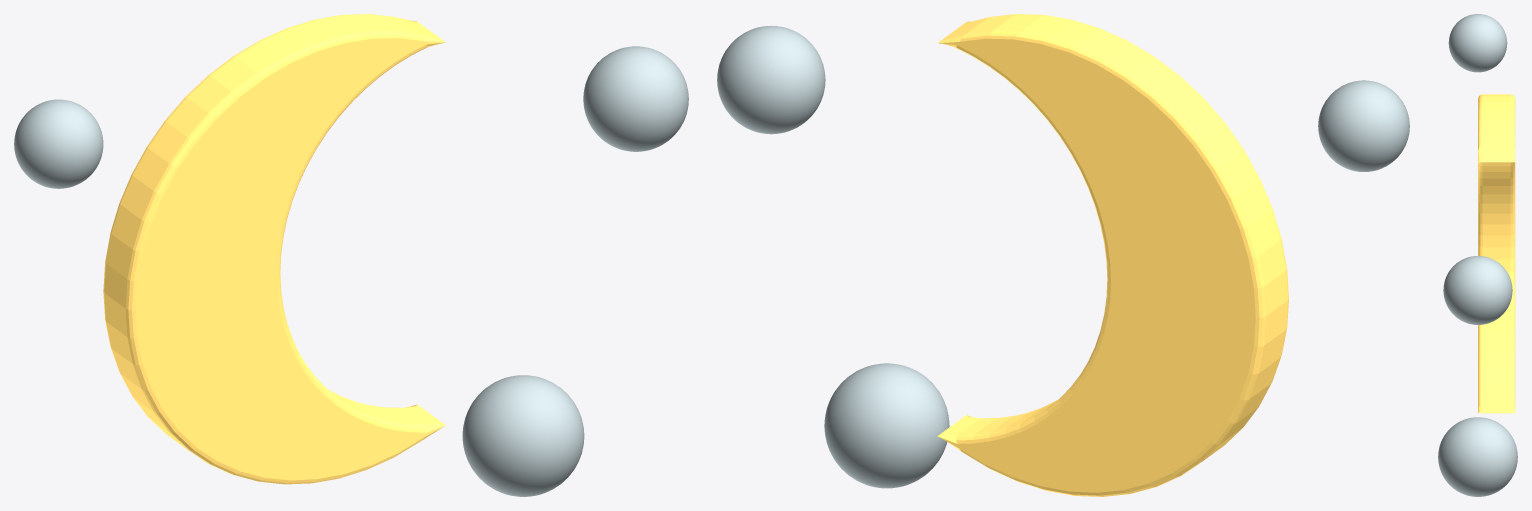
The model's file is sleep-mobile.glb.
3 renders of one model, left to right at view 1: azimuth 30°, elevation 25°; view 2: azimuth 150°, elevation 25°; view 3: azimuth 270°, elevation 25°, orthographic. The views are drawn at different scales.
Parts seen in each view (by area): view 1: dream_moon, dream_pearl2, dream_pearl1, dream_pearl0; view 2: dream_moon, dream_pearl2, dream_pearl1, dream_pearl0; view 3: dream_moon, dream_pearl2, dream_pearl1, dream_pearl0.
Boxes of the visible parts, x1=… form: dream_moon: x1=103, y1=14, x2=445, y2=484; dream_pearl2: x1=462, y1=375, x2=584, y2=496; dream_pearl1: x1=583, y1=46, x2=688, y2=151; dream_pearl0: x1=14, y1=99, x2=103, y2=188; dream_moon: x1=937, y1=14, x2=1288, y2=496; dream_pearl2: x1=824, y1=363, x2=949, y2=488; dream_pearl1: x1=717, y1=25, x2=825, y2=134; dream_pearl0: x1=1318, y1=80, x2=1409, y2=171; dream_moon: x1=1478, y1=94, x2=1515, y2=413; dream_pearl2: x1=1438, y1=417, x2=1517, y2=496; dream_pearl1: x1=1443, y1=256, x2=1512, y2=324; dream_pearl0: x1=1448, y1=14, x2=1507, y2=72.
Bounding box in the file's own units: 0.94 × 0.68 × 0.15.
